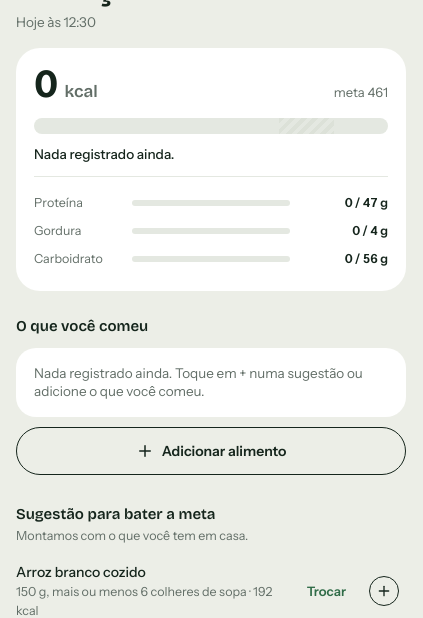
Scenario: revisão final do 04B › 1: "+" tocado de novo durante o envio não manda outra vez (spec 09, Review Focus 1)
What coordinates should you click on to do the following:
click the button named "Registrar Arroz branco cozido"
I would click on:
 (384, 591)
Its box is [362, 569, 406, 613].
(page scrolled)
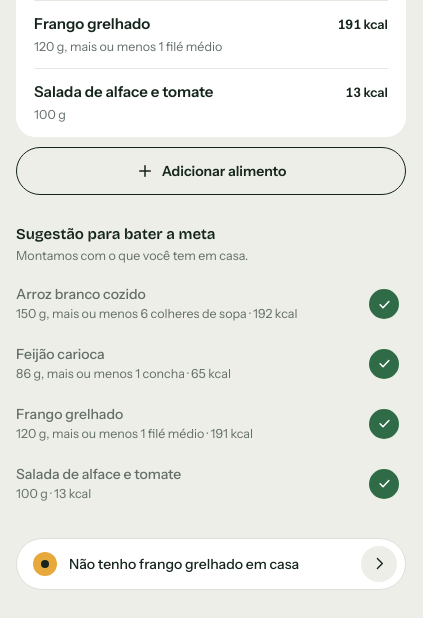
Expected: the button named "Arroz branco cozido já registrado" is disabled, [362, 282, 406, 326]
Expected: the button named "Registrar Feijão" is disabled, [362, 342, 406, 386]
